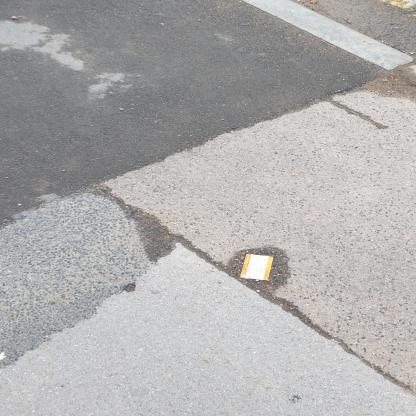plastik: (241, 255, 275, 281)
